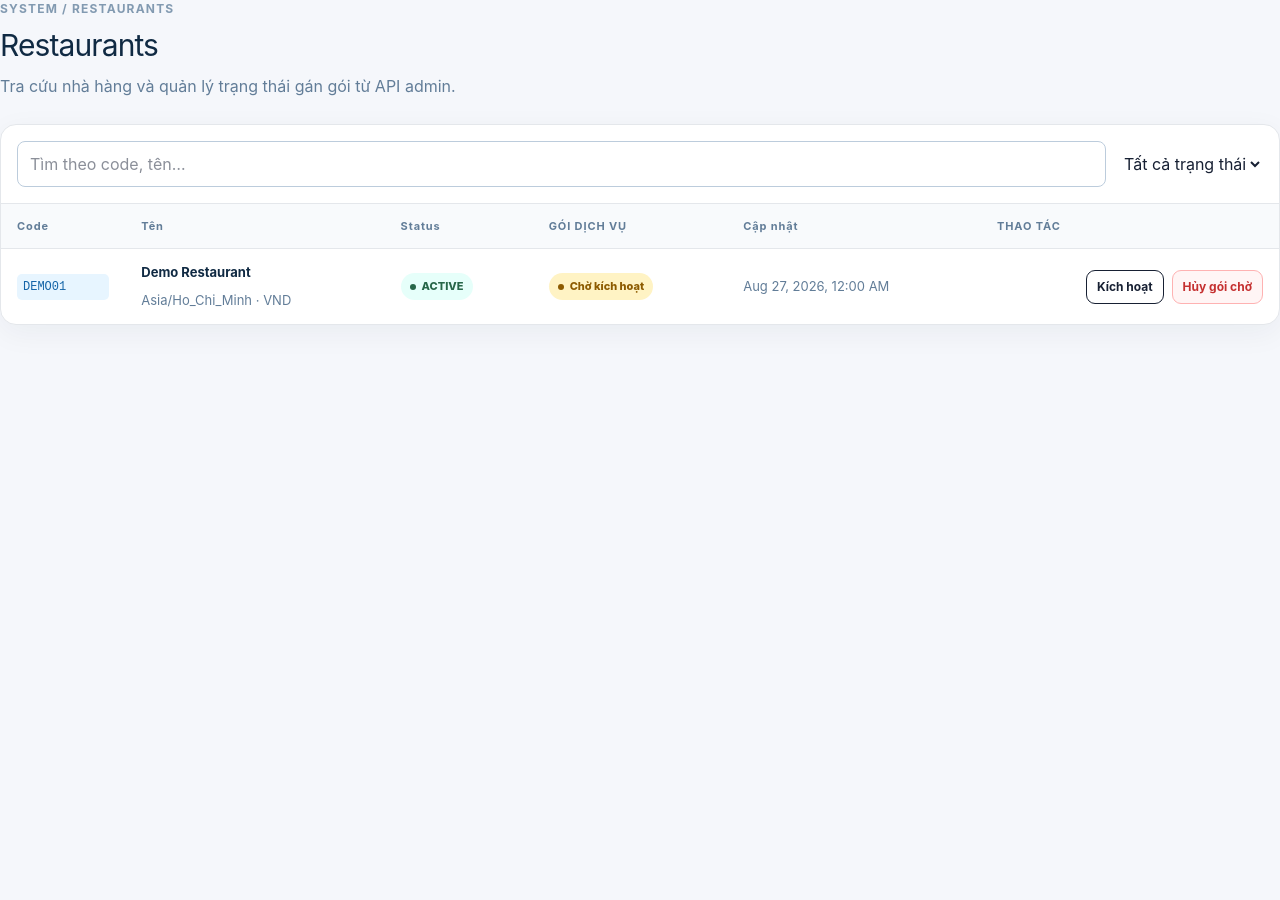
Test case: restaurant package assignment actions › cancels the exact PENDING subscription and refetches to AVAILABLE
The image size is (1280, 900).
Click the button "Hủy gói chờ" at (1217, 287), box [1172,270,1263,304]
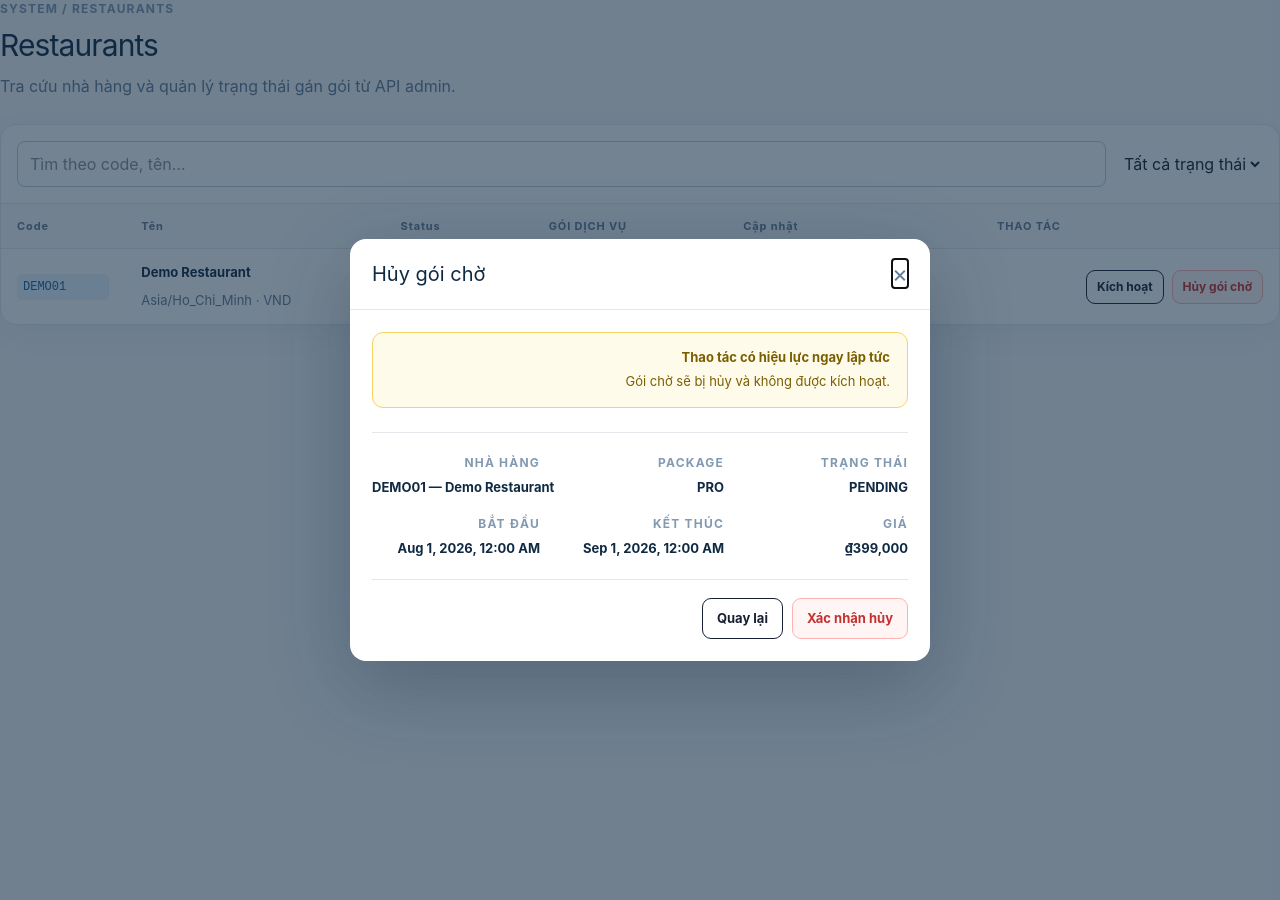
Click the button "Xác nhận hủy" at (850, 619), box [792,598,908,639]
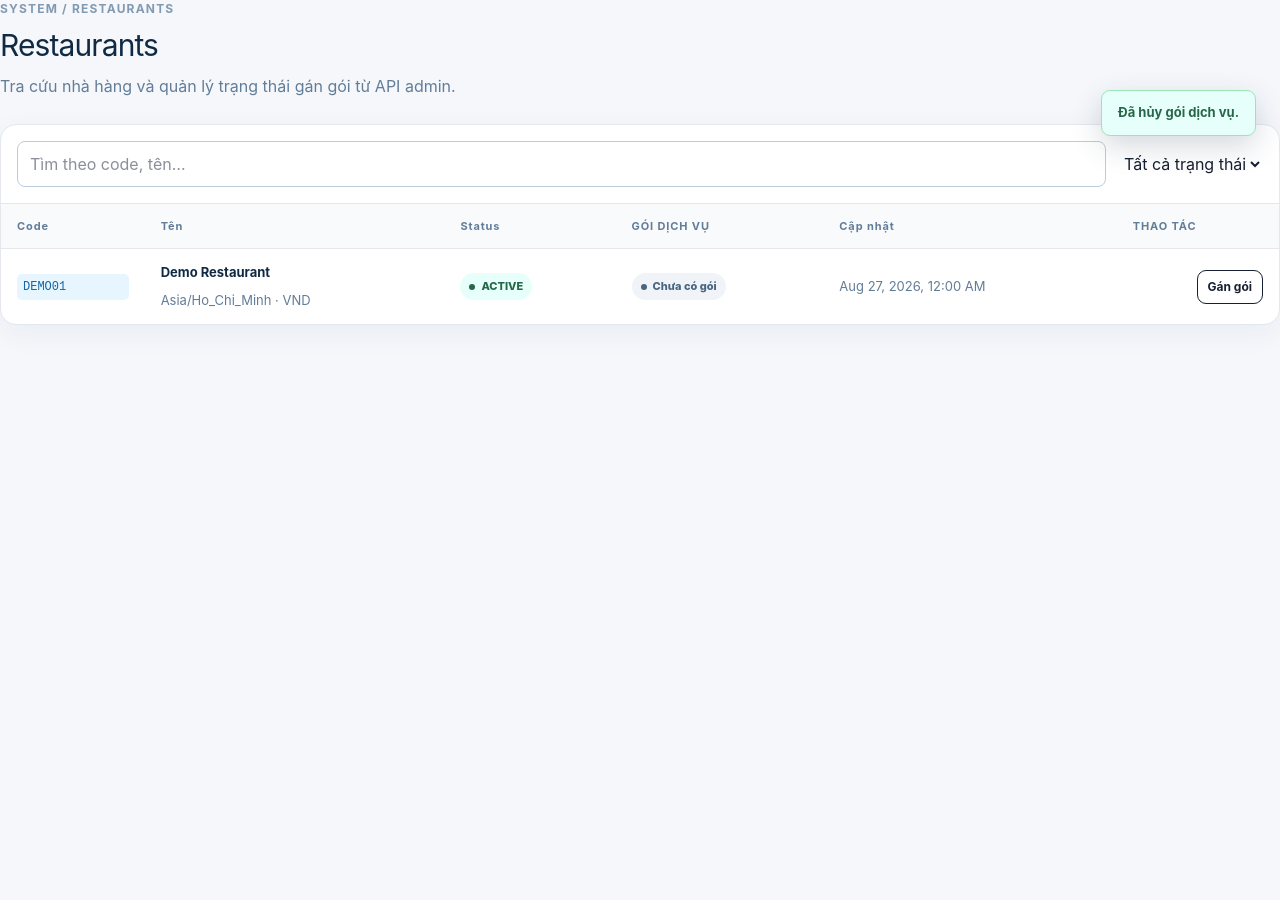
Expected: the text "Chưa có gói" is shown, [632,273,726,300]
